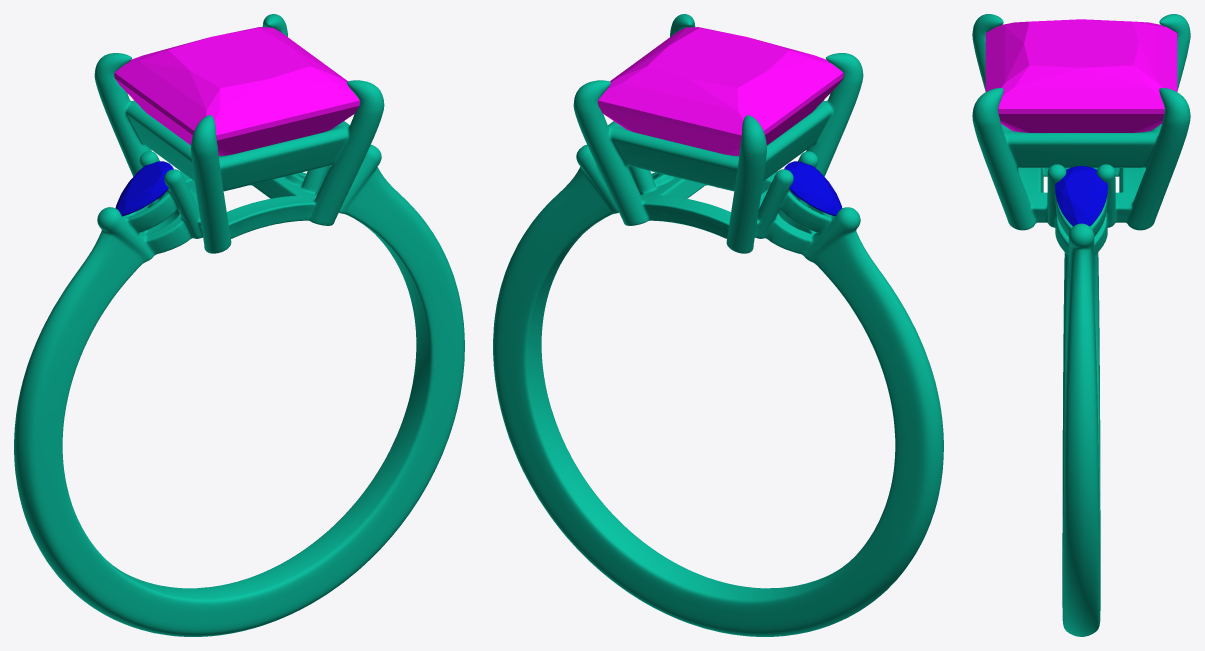
Rendered from BE1D232_PR_200ct_RENDER.glb.
3 renders of one model, left to right at view 1: azimuth 30°, elevation 25°; view 2: azimuth 150°, elevation 25°; view 3: azimuth 270°, elevation 25°, orthographic.
Visible parts, largest first — view 1: Metal 01, CS_Diamond_Princess, Diamond_Pear_side.001; view 2: Metal 01, CS_Diamond_Princess, Diamond_Pear_side.001; view 3: Metal 01, CS_Diamond_Princess, Diamond_Pear_side.
Part boxes in pixels (x1,y1,x2,y2): Metal 01: [14, 14, 464, 636]; CS_Diamond_Princess: [114, 27, 359, 155]; Diamond_Pear_side.001: [115, 161, 173, 216]; Metal 01: [493, 14, 943, 636]; CS_Diamond_Princess: [598, 27, 843, 187]; Diamond_Pear_side.001: [784, 161, 842, 216]; Metal 01: [972, 14, 1190, 636]; CS_Diamond_Princess: [985, 19, 1177, 132]; Diamond_Pear_side: [1055, 166, 1107, 226].
Size of the model in its own units: 20.11 by 24.61 by 8.55.
